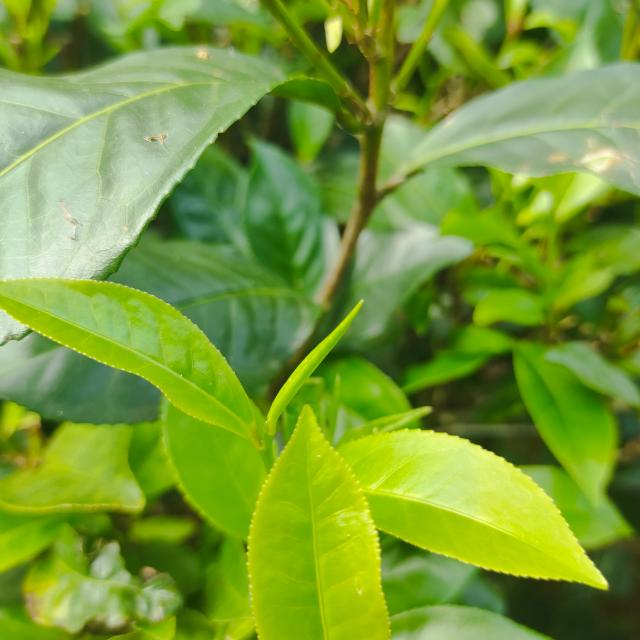unopened_leaf: (260, 292, 372, 440)
